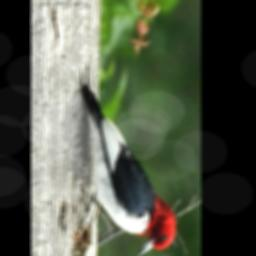Woodpecker: (81, 68, 176, 256)
